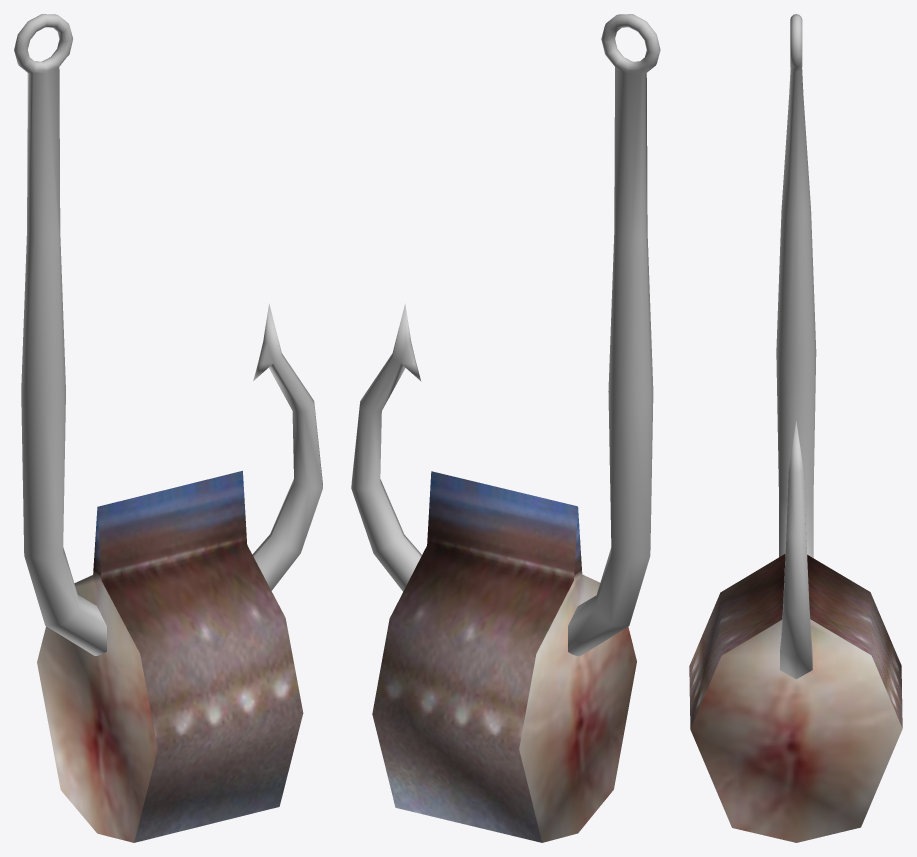
File: Bait_WhitespottedConger.fbx
3 views of the same model, side by side, from view 1: azimuth 30°, elevation 25°; view 2: azimuth 150°, elevation 25°; view 3: azimuth 270°, elevation 25° (orthographic). The views are drawn at different scales.
Visible parts, largest first — view 1: Bait_Congermyriastera; view 2: Bait_Congermyriastera; view 3: Bait_Congermyriastera.
Boxes of the visible parts, x1=… form: Bait_Congermyriastera: x1=14, y1=14, x2=322, y2=842; Bait_Congermyriastera: x1=351, y1=14, x2=660, y2=842; Bait_Congermyriastera: x1=689, y1=14, x2=902, y2=842.
Bounding box in the file's own units: 0.2116 × 0.5462 × 0.1428.
